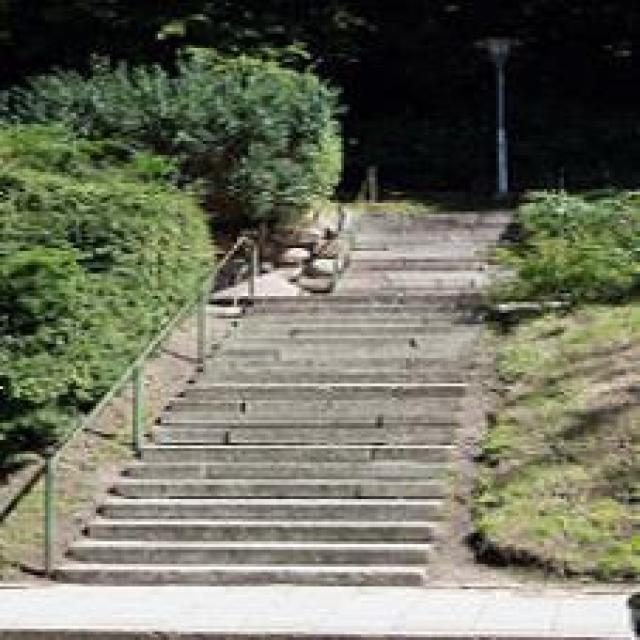upstair: (13, 328, 481, 590)
